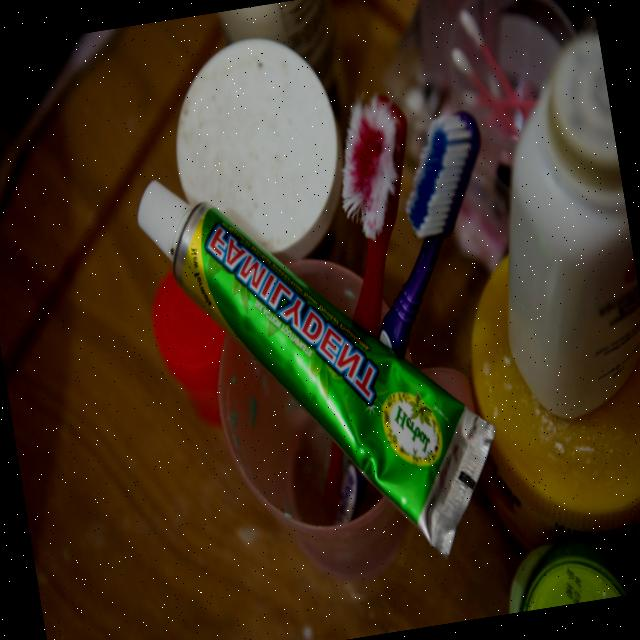Toothpaste: (132, 134, 512, 596)
